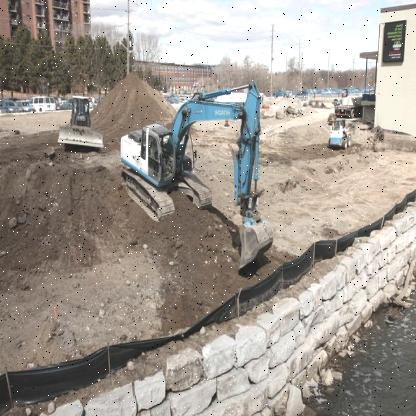excavator: (111, 76, 299, 275)
